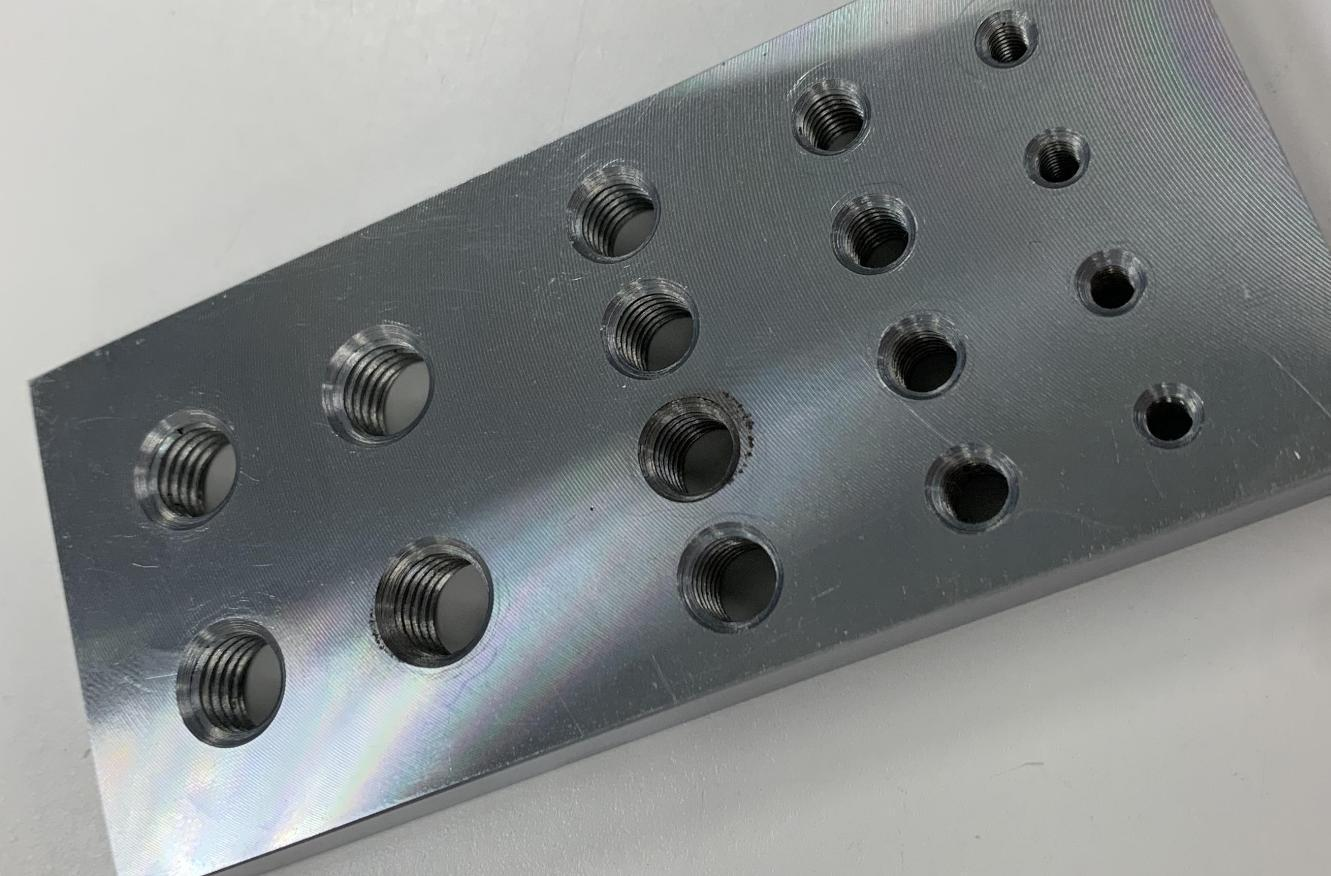hole: (103, 373, 270, 544), (373, 529, 535, 687), (160, 600, 308, 762), (302, 307, 460, 455), (648, 517, 816, 649), (760, 51, 910, 176), (892, 435, 1054, 547), (618, 390, 774, 502), (860, 286, 986, 414), (549, 158, 679, 266), (816, 178, 936, 290), (594, 270, 708, 378), (1113, 366, 1229, 462), (1058, 234, 1164, 326), (1015, 121, 1108, 205), (963, 0, 1052, 80)
